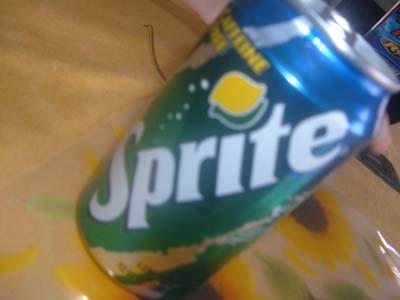grozi_55: (75, 0, 400, 299)
